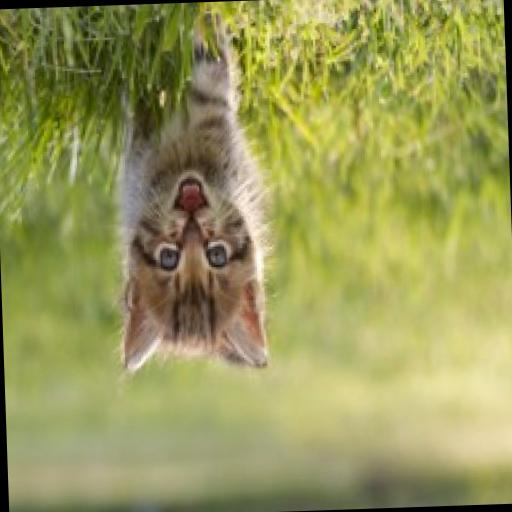cat: (88, 28, 295, 406)
